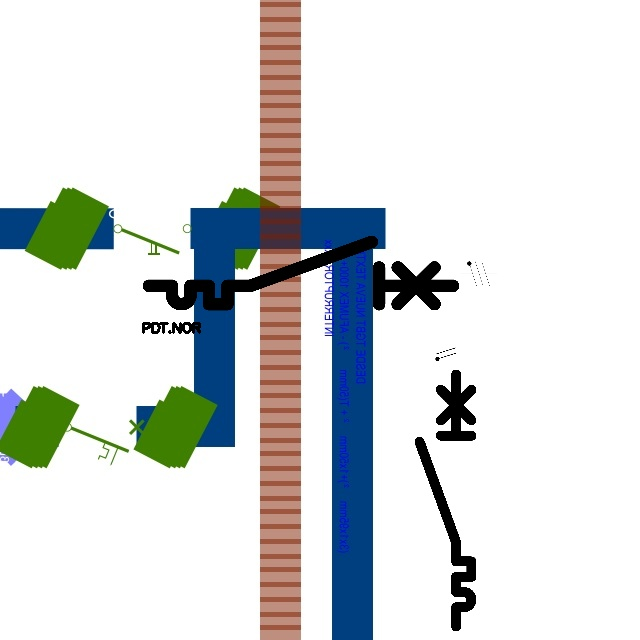interruptor_termomagnetico: (141, 234, 460, 312), (413, 367, 478, 632)
